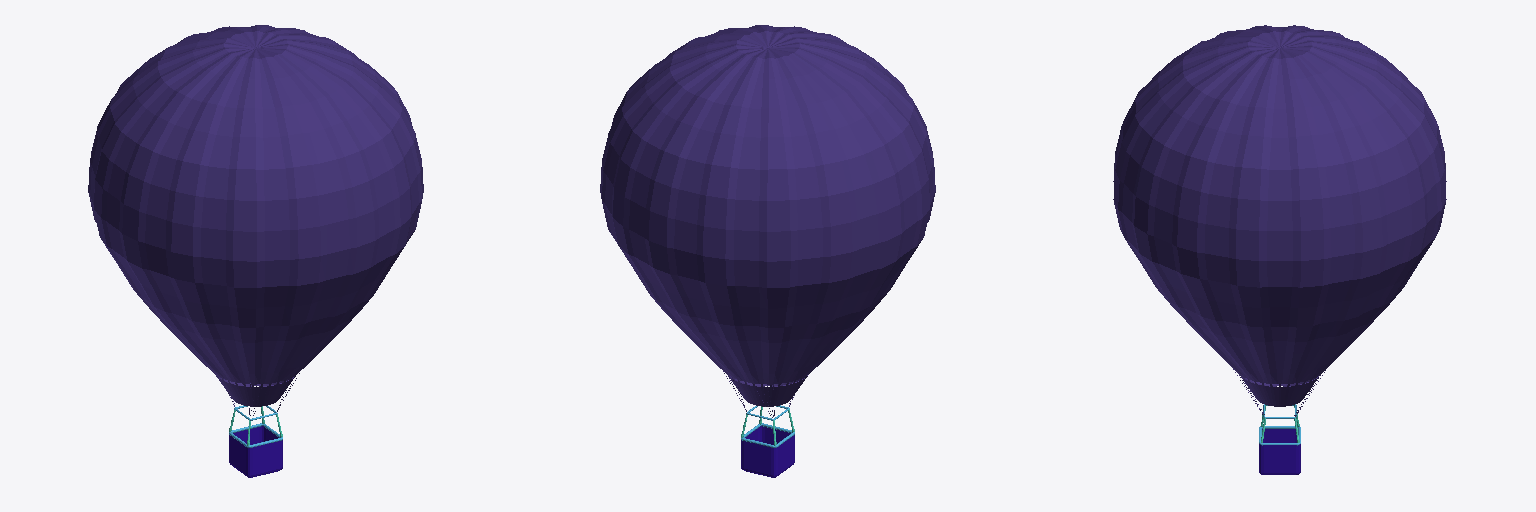
The model's file is Jugador1.obj.
3 renders of one model, left to right at view 1: azimuth 30°, elevation 25°; view 2: azimuth 150°, elevation 25°; view 3: azimuth 270°, elevation 25°, orthographic.
Parts seen in each view (by area): view 1: Object009; view 2: Object009; view 3: Object009.
Part boxes in pixels (x1,y1,x2,y2): Object009: (88, 25, 423, 477); Object009: (600, 25, 935, 477); Object009: (1113, 25, 1446, 474).
Size of the model in its own units: 31.88 by 44.66 by 31.88.